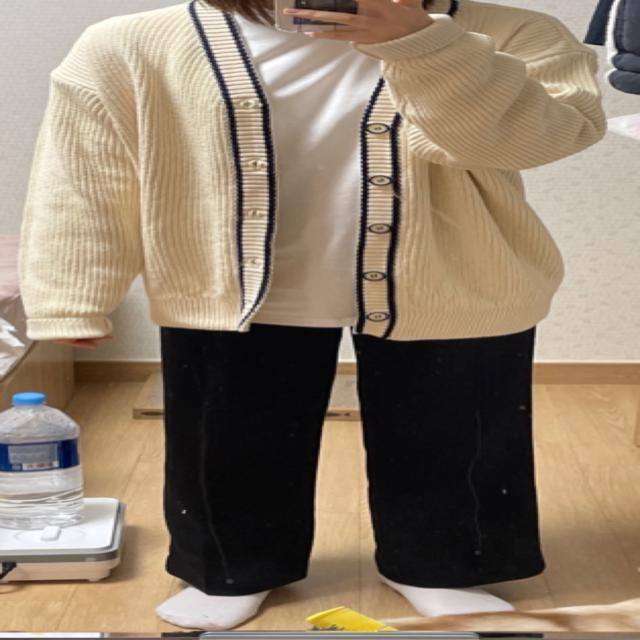cardigan: (14, 2, 614, 343)
slacks: (156, 308, 546, 596)
